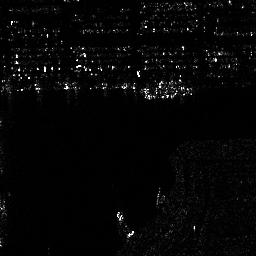ship: (114, 211, 135, 238)
